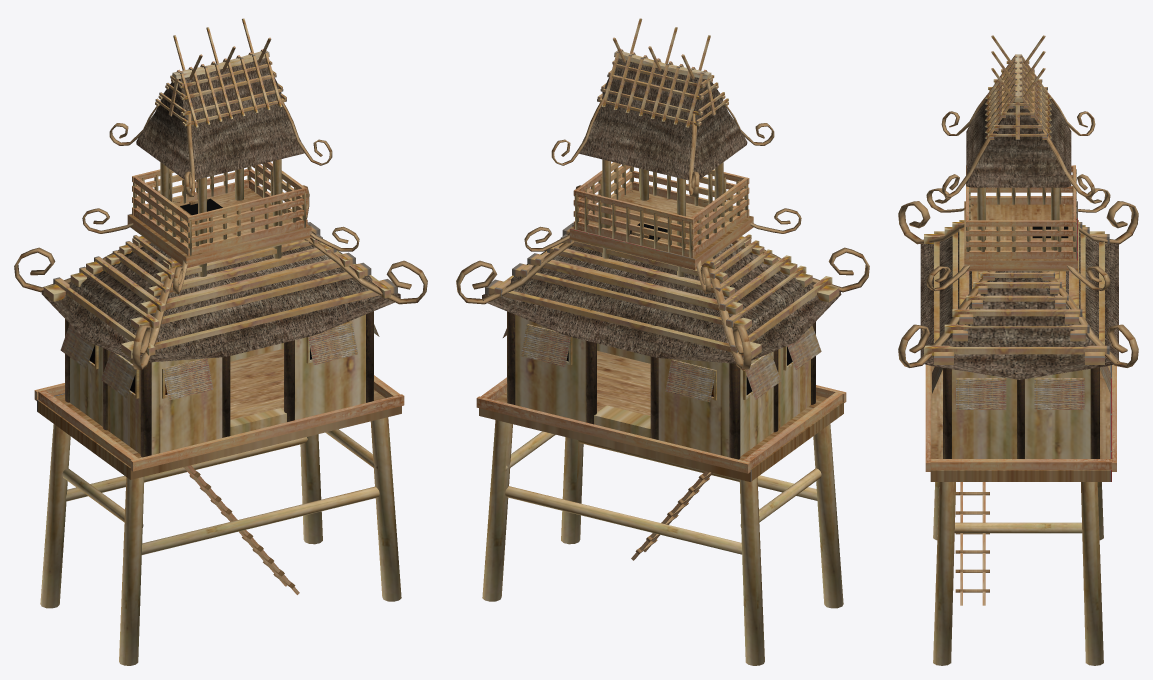
The model's file is yayoi_karakokagi.dae.
The picture shows the model from 3 angles, left to right: view 1: azimuth 30°, elevation 25°; view 2: azimuth 150°, elevation 25°; view 3: azimuth 270°, elevation 25°; orthographic projection. The views are drawn at different scales.
Visible parts, largest first — view 1: karakokagi; view 2: karakokagi; view 3: karakokagi.
Part boxes in pixels (x1=…): karakokagi: x1=14, y1=18, x2=427, y2=665; karakokagi: x1=456, y1=18, x2=869, y2=665; karakokagi: x1=898, y1=35, x2=1138, y2=665.
Bounding box in the file's own units: 14.56 × 10.57 × 26.85.
